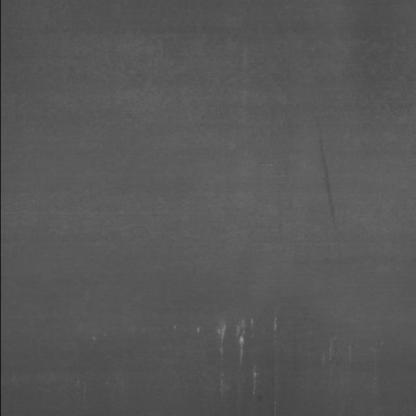waist_folding: (72, 295, 361, 397)
